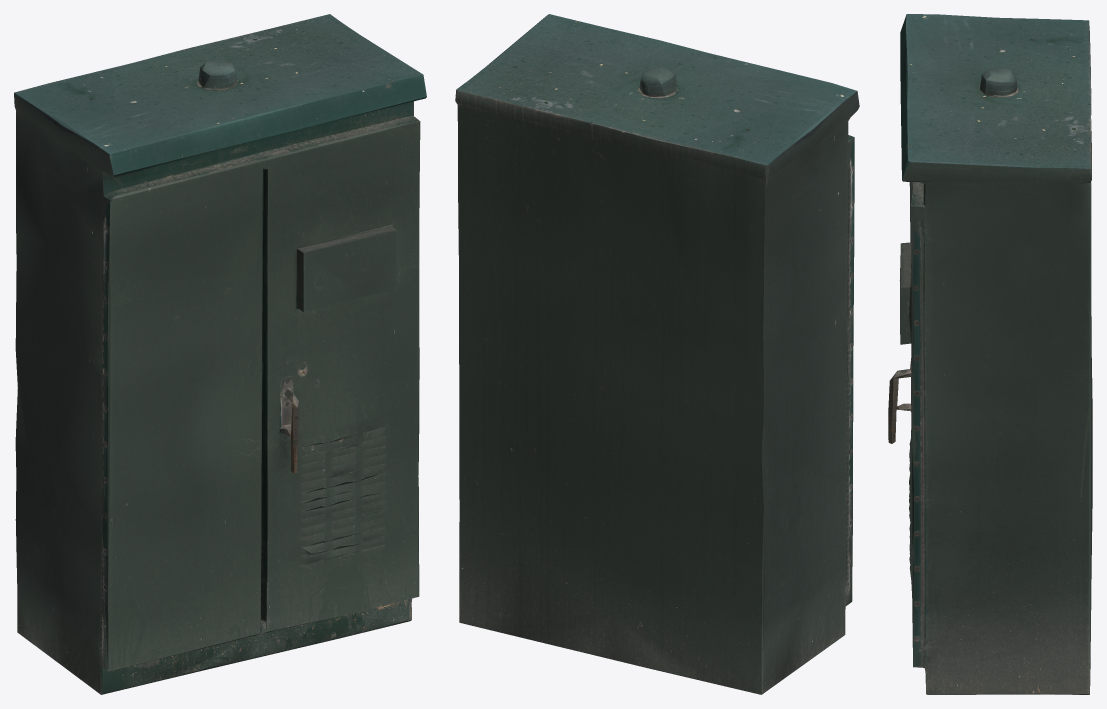
Rendered from SM_DianGui.glb.
3 renders of one model, left to right at view 1: azimuth 30°, elevation 25°; view 2: azimuth 150°, elevation 25°; view 3: azimuth 270°, elevation 25°, orthographic. The views are drawn at different scales.
Parts seen in each view (by area): view 1: SM_DianGui; view 2: SM_DianGui; view 3: SM_DianGui.
Part boxes in pixels (<box>): SM_DianGui: <box>14,14,426,694</box>; SM_DianGui: <box>455,14,859,694</box>; SM_DianGui: <box>888,14,1092,694</box>.
Bounding box in the file's own units: 0.9332 × 1.6 × 0.5385.
1 material, 1 textured.
